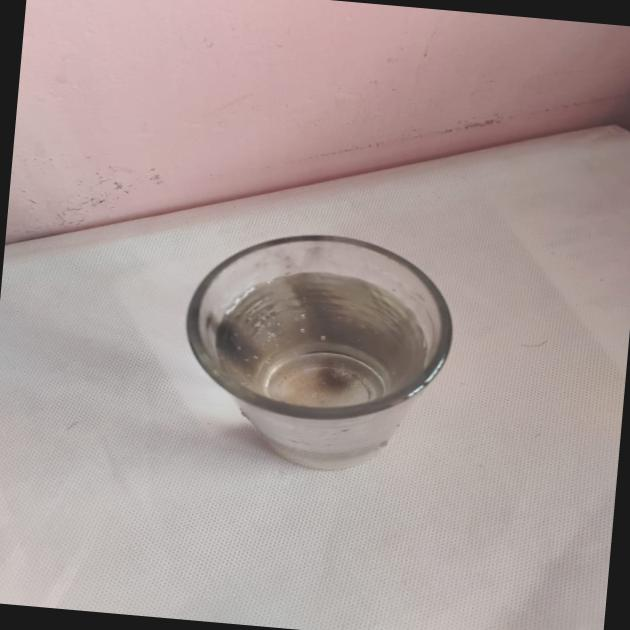glass of water: (108, 219, 451, 476)
